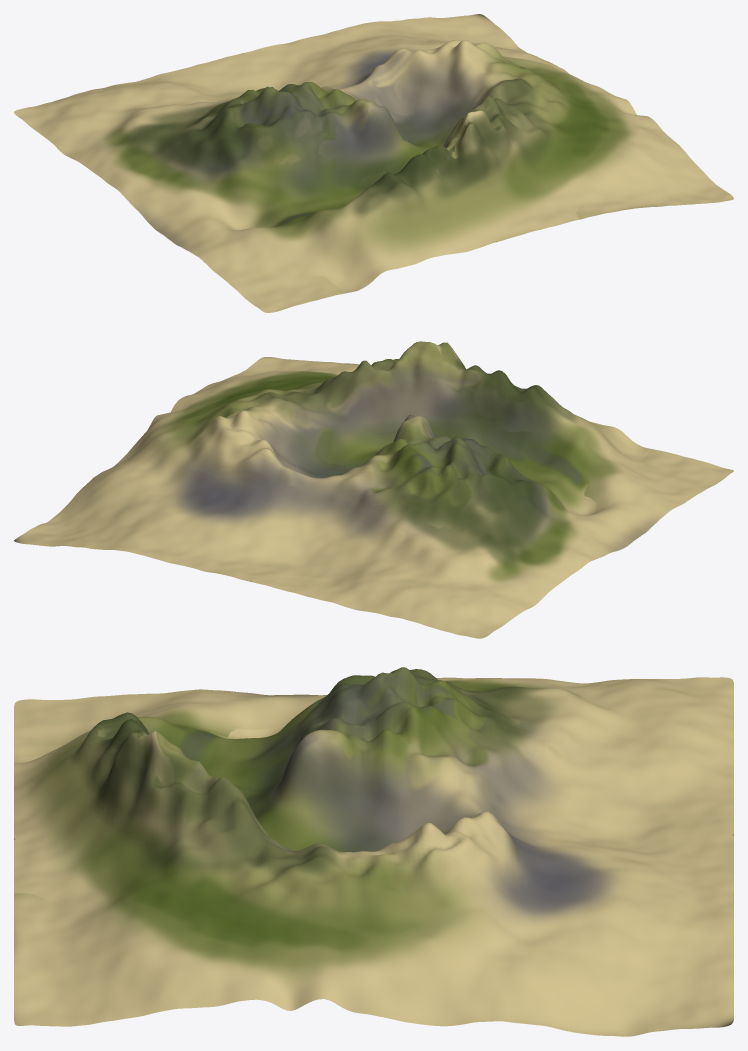
Rendered from valley_island.obj.
3 renders of one model, top to bottom at view 1: azimuth 30°, elevation 25°; view 2: azimuth 150°, elevation 25°; view 3: azimuth 270°, elevation 25°, orthographic. The views are drawn at different scales.
Parts seen in each view (by area): view 1: new_island_Plane; view 2: new_island_Plane; view 3: new_island_Plane.
Boxes of the visible parts, box(x1,y1,x2,y2) form: new_island_Plane: box(14, 14, 733, 312); new_island_Plane: box(14, 341, 733, 638); new_island_Plane: box(14, 667, 733, 1036).
Bounding box in the file's own units: 40.86 × 9.13 × 38.19.
